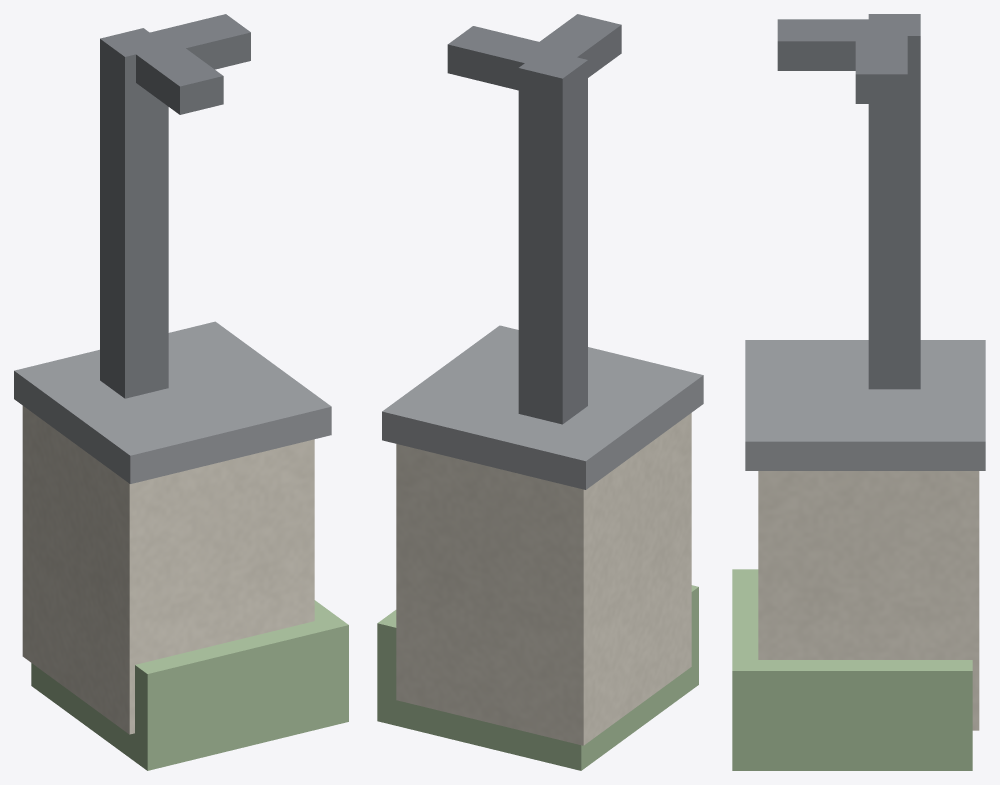
The model's file is corner_parapet.glb.
3 views of the same model, side by side, from view 1: azimuth 30°, elevation 25°; view 2: azimuth 150°, elevation 25°; view 3: azimuth 270°, elevation 25° (orthographic). The views are drawn at different scales.
Parts seen in each view (by area): view 1: corner_parapet_panel, corner_parapet_iron, corner_parapet_coping, corner_parapet_band; view 2: corner_parapet_panel, corner_parapet_iron, corner_parapet_coping, corner_parapet_band; view 3: corner_parapet_panel, corner_parapet_band, corner_parapet_coping, corner_parapet_iron.
Boxes of the visible parts, bbox=[...] form: corner_parapet_panel: bbox=[22, 406, 314, 734]; corner_parapet_iron: bbox=[100, 14, 250, 398]; corner_parapet_coping: bbox=[14, 321, 331, 483]; corner_parapet_band: bbox=[31, 600, 348, 770]; corner_parapet_panel: bbox=[396, 413, 691, 745]; corner_parapet_iron: bbox=[447, 14, 621, 424]; corner_parapet_coping: bbox=[382, 325, 703, 489]; corner_parapet_band: bbox=[377, 585, 698, 770]; corner_parapet_panel: bbox=[758, 471, 979, 730]; corner_parapet_band: bbox=[732, 569, 972, 770]; corner_parapet_coping: bbox=[745, 340, 985, 470]; corner_parapet_iron: bbox=[777, 14, 920, 389].
Size of the model in its own units: 0.39 by 1.15 by 0.39.
4 materials, 1 textured.
